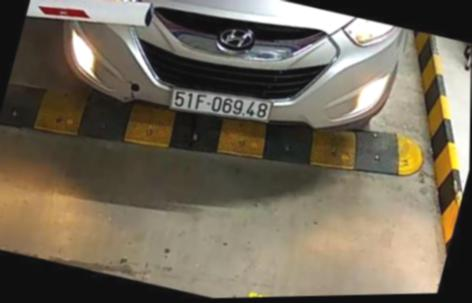License_Plate: (165, 79, 279, 142)
